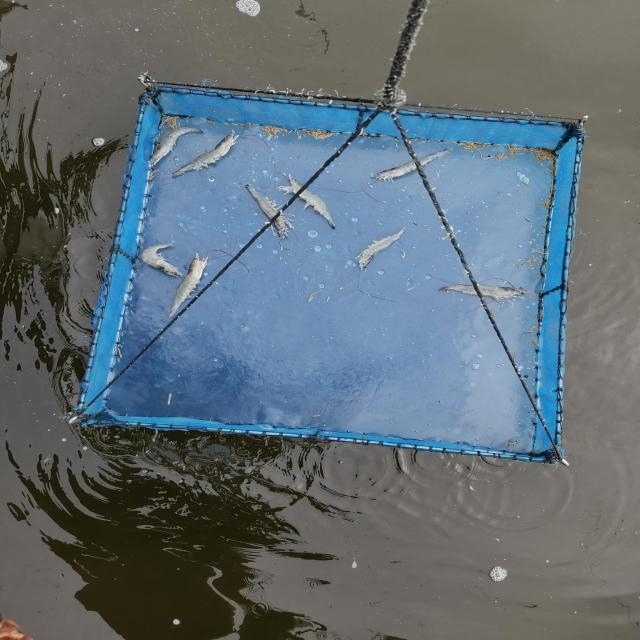Shrimp feeds: (332, 147, 337, 150), (432, 268, 436, 271), (431, 265, 435, 268), (422, 225, 428, 226)
